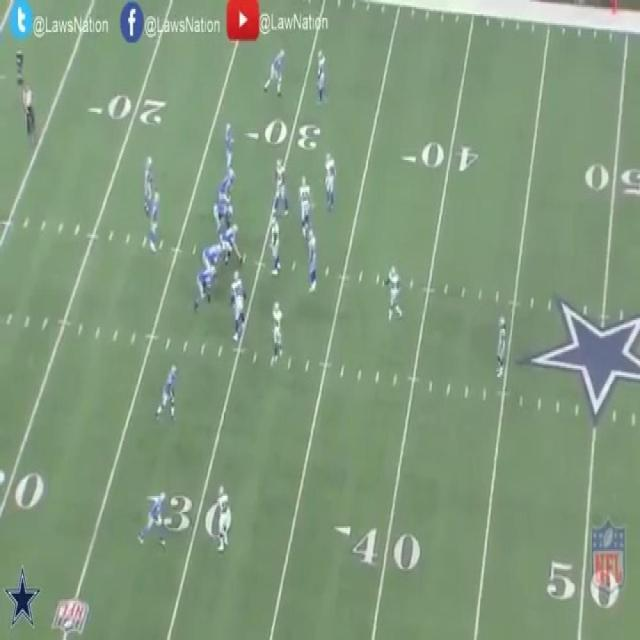center: (223, 224, 239, 256)
db: (384, 265, 402, 327), (267, 302, 284, 356), (217, 488, 231, 550), (318, 50, 330, 100), (498, 316, 508, 374)
lb: (307, 234, 321, 296), (322, 153, 336, 203)
qb: (146, 194, 158, 252)
